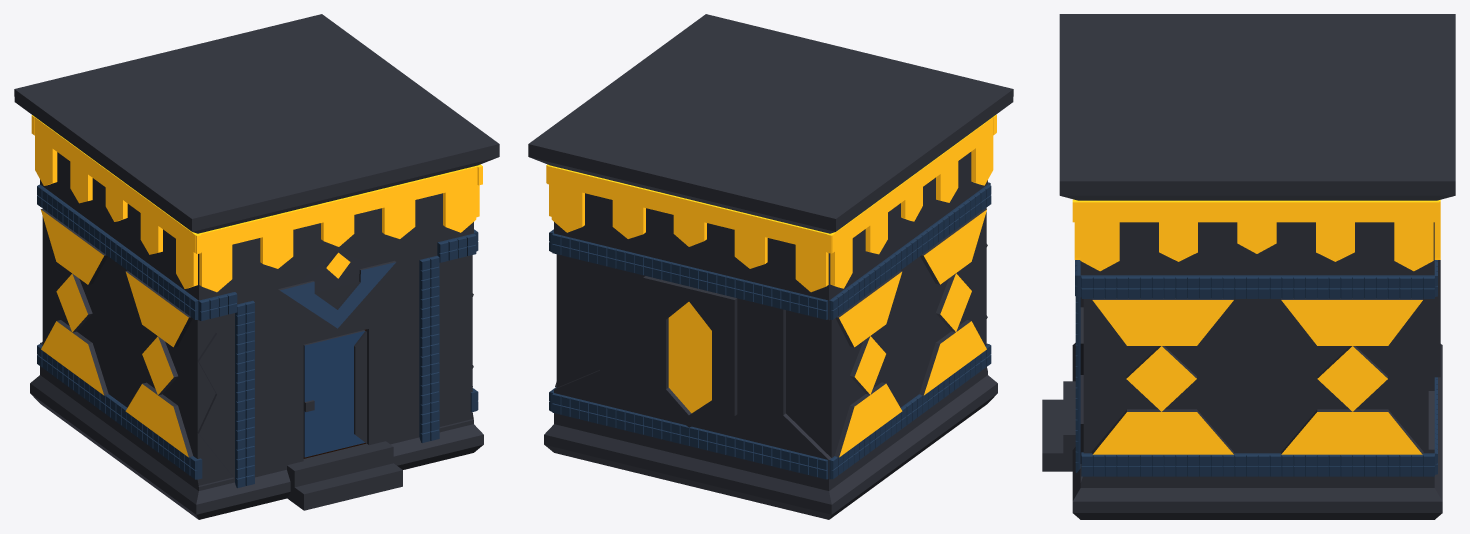
Rendered from HouseRock1.glb.
The picture shows the model from 3 angles, left to right: view 1: azimuth 30°, elevation 25°; view 2: azimuth 150°, elevation 25°; view 3: azimuth 270°, elevation 25°; orthographic projection. The views are drawn at different scales.
Parts seen in each view (by area): view 1: Дом, Верхнее украшение, Верхнее украшение.003, Куб.360; view 2: Дом, Верхнее украшение.001, Верхнее украшение.003; view 3: Дом, Верхнее украшение.002, Куб.360.
Part boxes in pixels (left/top/right/bottom): Дом: left=14, top=14, right=499, bottom=519; Верхнее украшение: left=193, top=164, right=481, bottom=292; Верхнее украшение.003: left=32, top=115, right=201, bottom=288; Куб.360: left=287, top=441, right=402, bottom=510; Дом: left=528, top=14, right=1013, bottom=519; Верхнее украшение.001: left=547, top=165, right=834, bottom=292; Верхнее украшение.003: left=827, top=114, right=996, bottom=288; Дом: left=1059, top=14, right=1455, bottom=519; Верхнее украшение.002: left=1072, top=199, right=1439, bottom=271; Куб.360: left=1042, top=381, right=1075, bottom=471.
Bounding box in the file's own units: 6.71 × 6.5 × 7.01.
